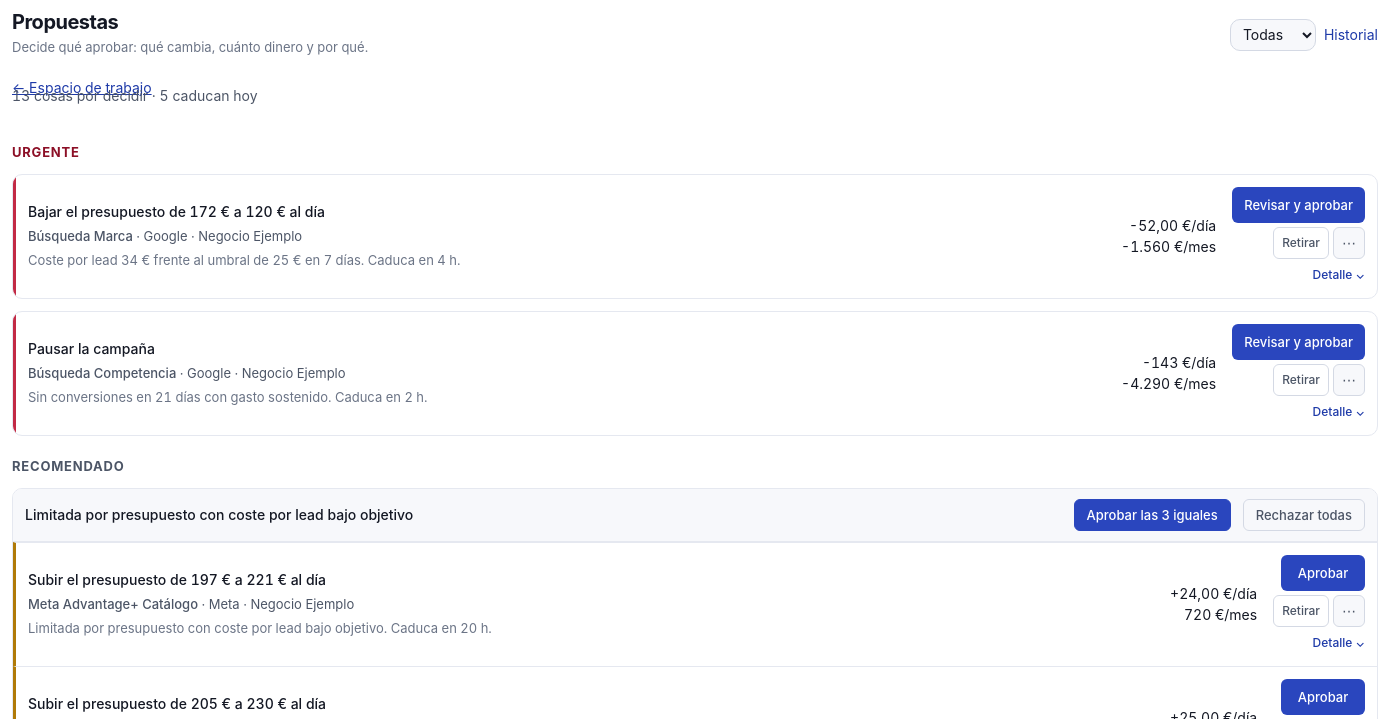
it: PropuestasPage › muestra errores de aprobación sin rechazos de promesa sin capturar
The width and height of the screenshot is (1390, 719).
Expected: the heading "Recomendado" is shown, [12, 458, 124, 474]
Click the button "Aprobar" in the row of "+24,00 €": (1323, 572) [1281, 554, 1365, 590]
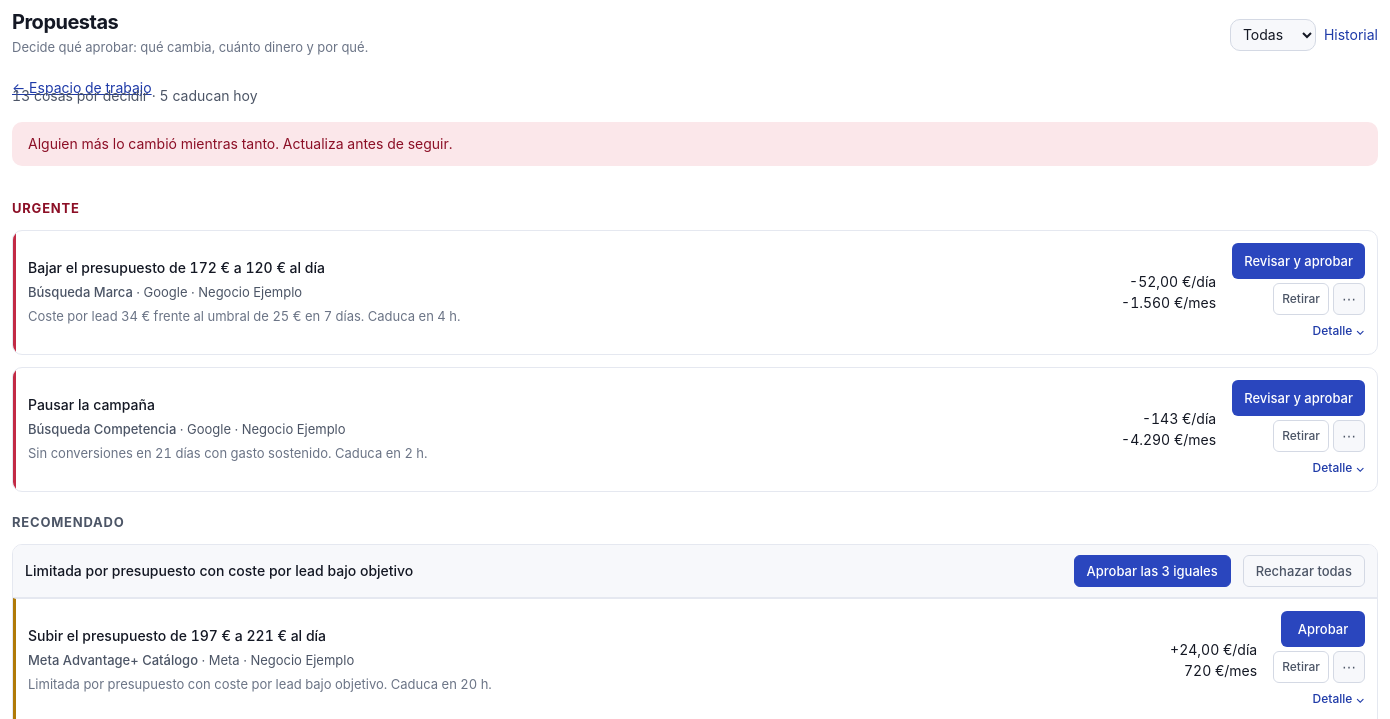
Expected: the message "Alguien más lo cambió mientras tanto. Actualiza antes de seguir." is shown, [12, 122, 1378, 166]
